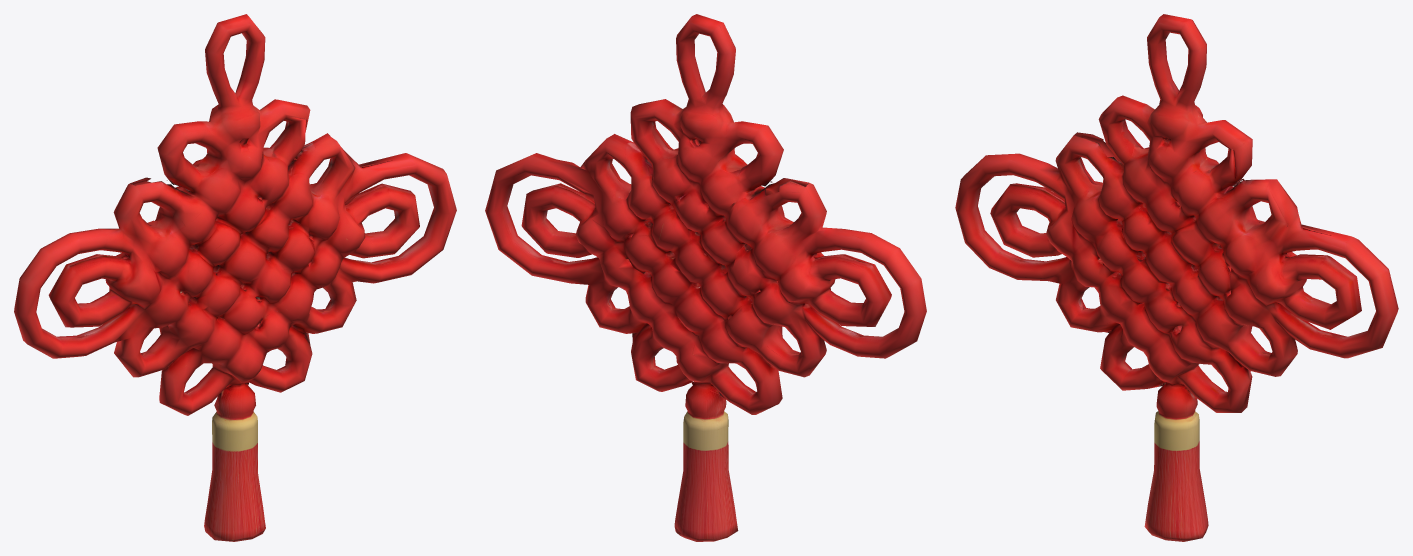
Rendered from RedKnot.glb.
3 renders of one model, left to right at view 1: azimuth 30°, elevation 25°; view 2: azimuth 150°, elevation 25°; view 3: azimuth 330°, elevation 25°, orthographic.
Size of the model in its own units: 1.79 by 2 by 0.2432.
1 material, 1 textured.
